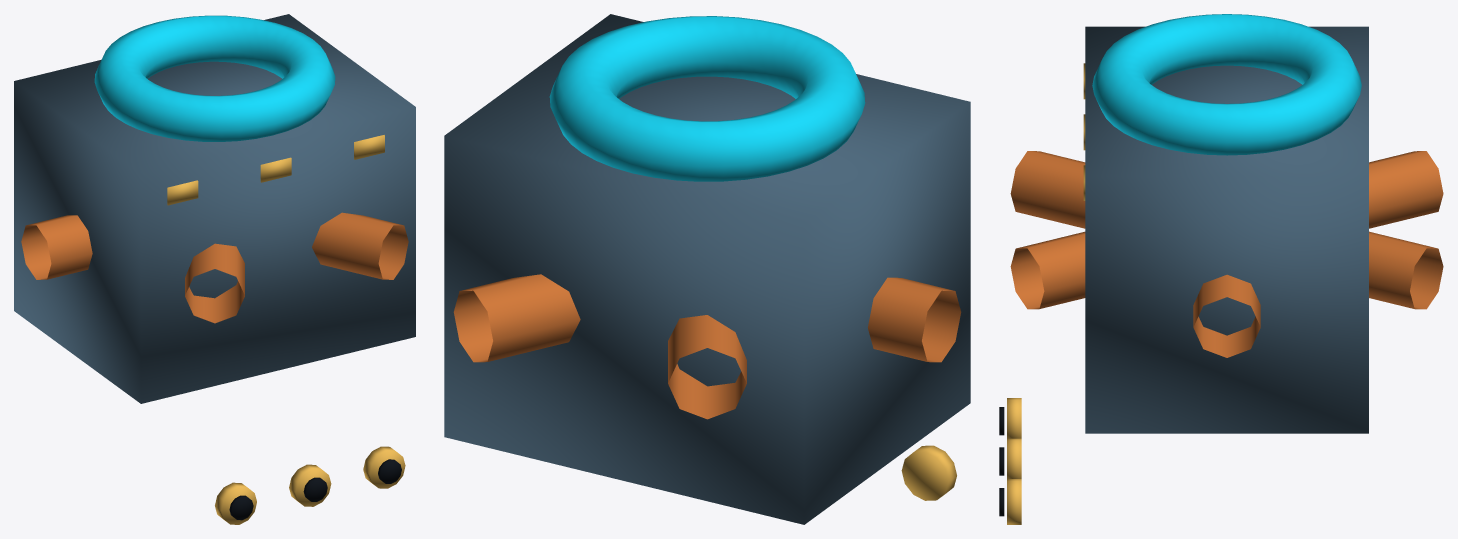
File: 58_L93_VacuumIsolationManifold.fbx
3 views of the same model, side by side, from view 1: azimuth 30°, elevation 25°; view 2: azimuth 150°, elevation 25°; view 3: azimuth 270°, elevation 25° (orthographic). The views are drawn at different scales.
Parts seen in each view (by area): view 1: L92_VacuumIsolationManifold_Part_0000, L92_VacuumIsolationManifold_Part_0002, L92_VacuumIsolationManifold_Part_0001, L92_VacuumIsolationManifold_Part_0003, L92_VacuumIsolationManifold_Part_0008, L92_VacuumIsolationManifold_Part_0006, L92_VacuumIsolationManifold_Part_0004, L92_VacuumIsolationManifold_Part_0005, L92_VacuumIsolationManifold_Part_0007, L92_VacuumIsolationManifold_Part_0009; view 2: L92_VacuumIsolationManifold_Part_0000, L92_VacuumIsolationManifold_Part_0002, L92_VacuumIsolationManifold_Part_0001, L92_VacuumIsolationManifold_Part_0004; view 3: L92_VacuumIsolationManifold_Part_0000, L92_VacuumIsolationManifold_Part_0002, L92_VacuumIsolationManifold_Part_0001, L92_VacuumIsolationManifold_Part_0008, L92_VacuumIsolationManifold_Part_0004, L92_VacuumIsolationManifold_Part_0006.
Boxes of the visible parts, x1,y1,x2,y2 form: L92_VacuumIsolationManifold_Part_0000: [14, 14, 415, 403]; L92_VacuumIsolationManifold_Part_0002: [94, 15, 335, 141]; L92_VacuumIsolationManifold_Part_0001: [21, 212, 408, 323]; L92_VacuumIsolationManifold_Part_0003: [167, 135, 384, 205]; L92_VacuumIsolationManifold_Part_0008: [363, 446, 405, 488]; L92_VacuumIsolationManifold_Part_0006: [289, 464, 331, 506]; L92_VacuumIsolationManifold_Part_0004: [215, 482, 256, 524]; L92_VacuumIsolationManifold_Part_0005: [229, 495, 253, 520]; L92_VacuumIsolationManifold_Part_0007: [303, 477, 327, 501]; L92_VacuumIsolationManifold_Part_0009: [378, 459, 401, 483]; L92_VacuumIsolationManifold_Part_0000: [444, 14, 970, 524]; L92_VacuumIsolationManifold_Part_0002: [549, 16, 865, 181]; L92_VacuumIsolationManifold_Part_0001: [453, 274, 961, 419]; L92_VacuumIsolationManifold_Part_0004: [901, 445, 956, 500]; L92_VacuumIsolationManifold_Part_0000: [1085, 26, 1368, 433]; L92_VacuumIsolationManifold_Part_0002: [1092, 14, 1361, 155]; L92_VacuumIsolationManifold_Part_0001: [1010, 151, 1443, 357]; L92_VacuumIsolationManifold_Part_0008: [1007, 479, 1021, 524]; L92_VacuumIsolationManifold_Part_0004: [1007, 398, 1021, 438]; L92_VacuumIsolationManifold_Part_0006: [1007, 438, 1021, 478].
Size of the model in its own units: 130 by 132 by 125.
